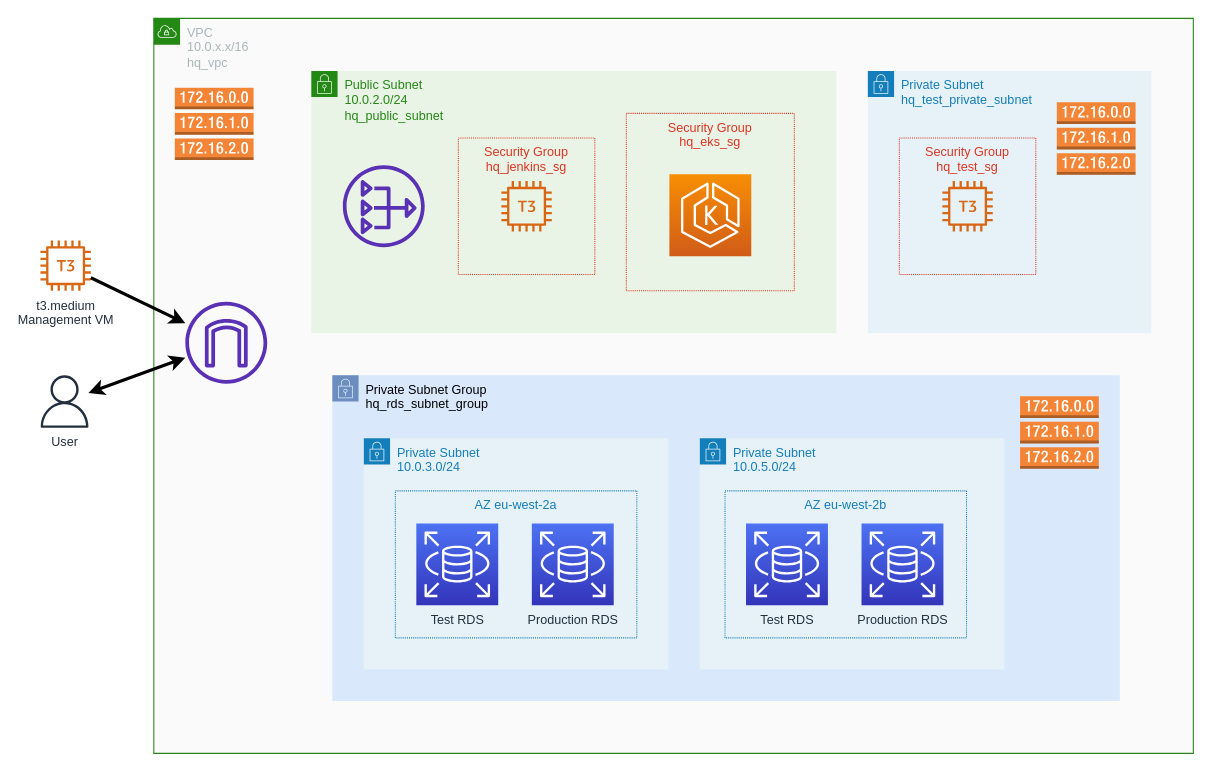
This 1212x772 diagram has some shape labels left out. Each missing label, with the centre of its shape:
"EKS" belongs at pixel 709 214.
"Internet Gateway" belongs at pixel 226 342.
"NAT Gateway" belongs at pixel 383 206.
"Public Route Table" belongs at pixel 214 123.
"t3.medium CI Server" belongs at pixel 526 206.
"t3.medium Test VM" belongs at pixel 967 206.
